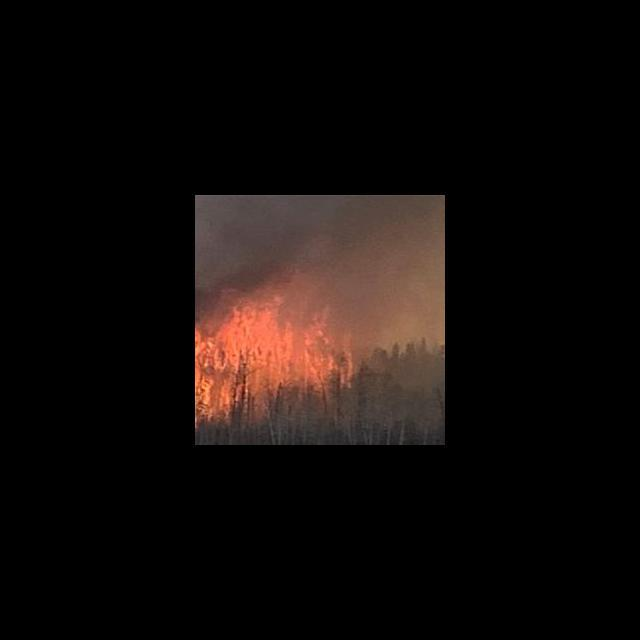Fire: (196, 289, 357, 431)
